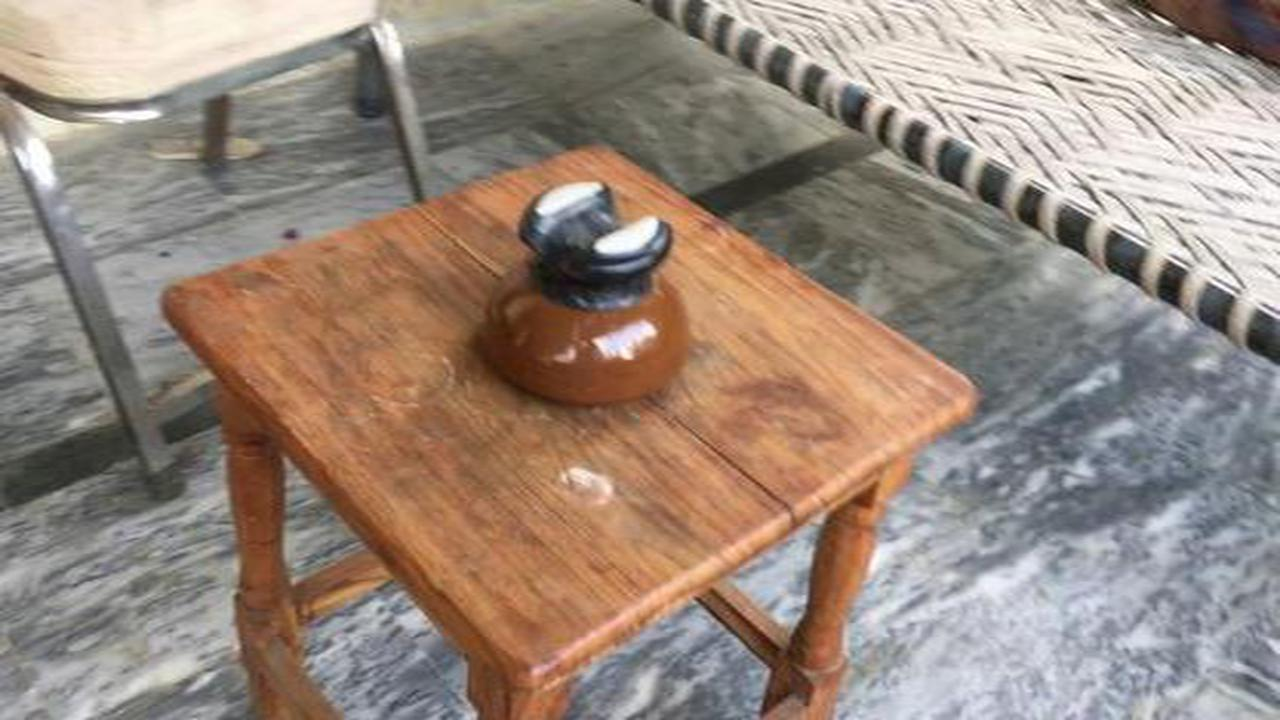insulator_pin: (468, 166, 705, 419)
